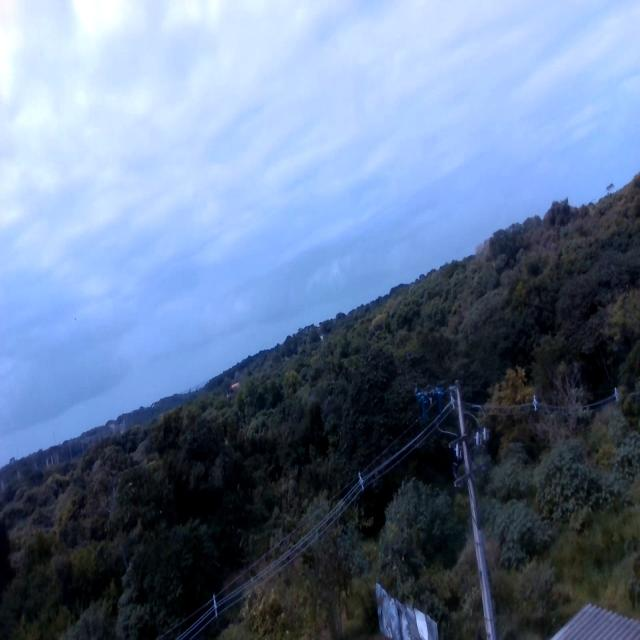-uav-: (407, 372, 451, 433)
